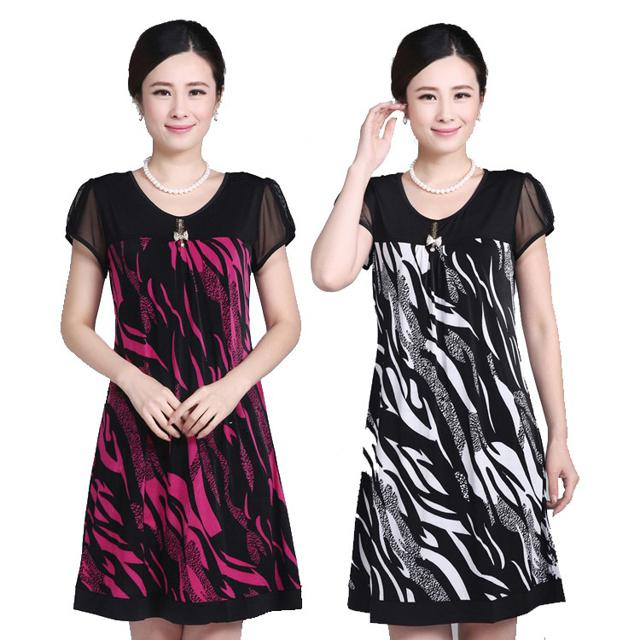Dresses: (344, 162, 565, 635), (79, 165, 304, 614)
